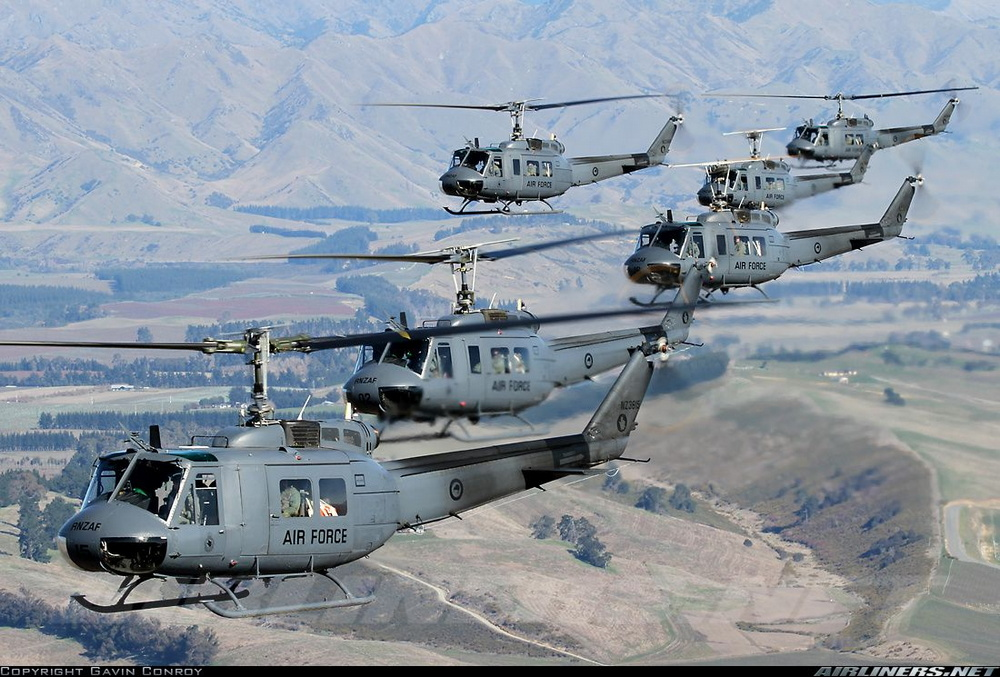Aeronef_militaire: (1, 322, 691, 625), (197, 218, 727, 449), (610, 155, 945, 313), (343, 86, 698, 219), (692, 78, 984, 165), (692, 124, 884, 218)
